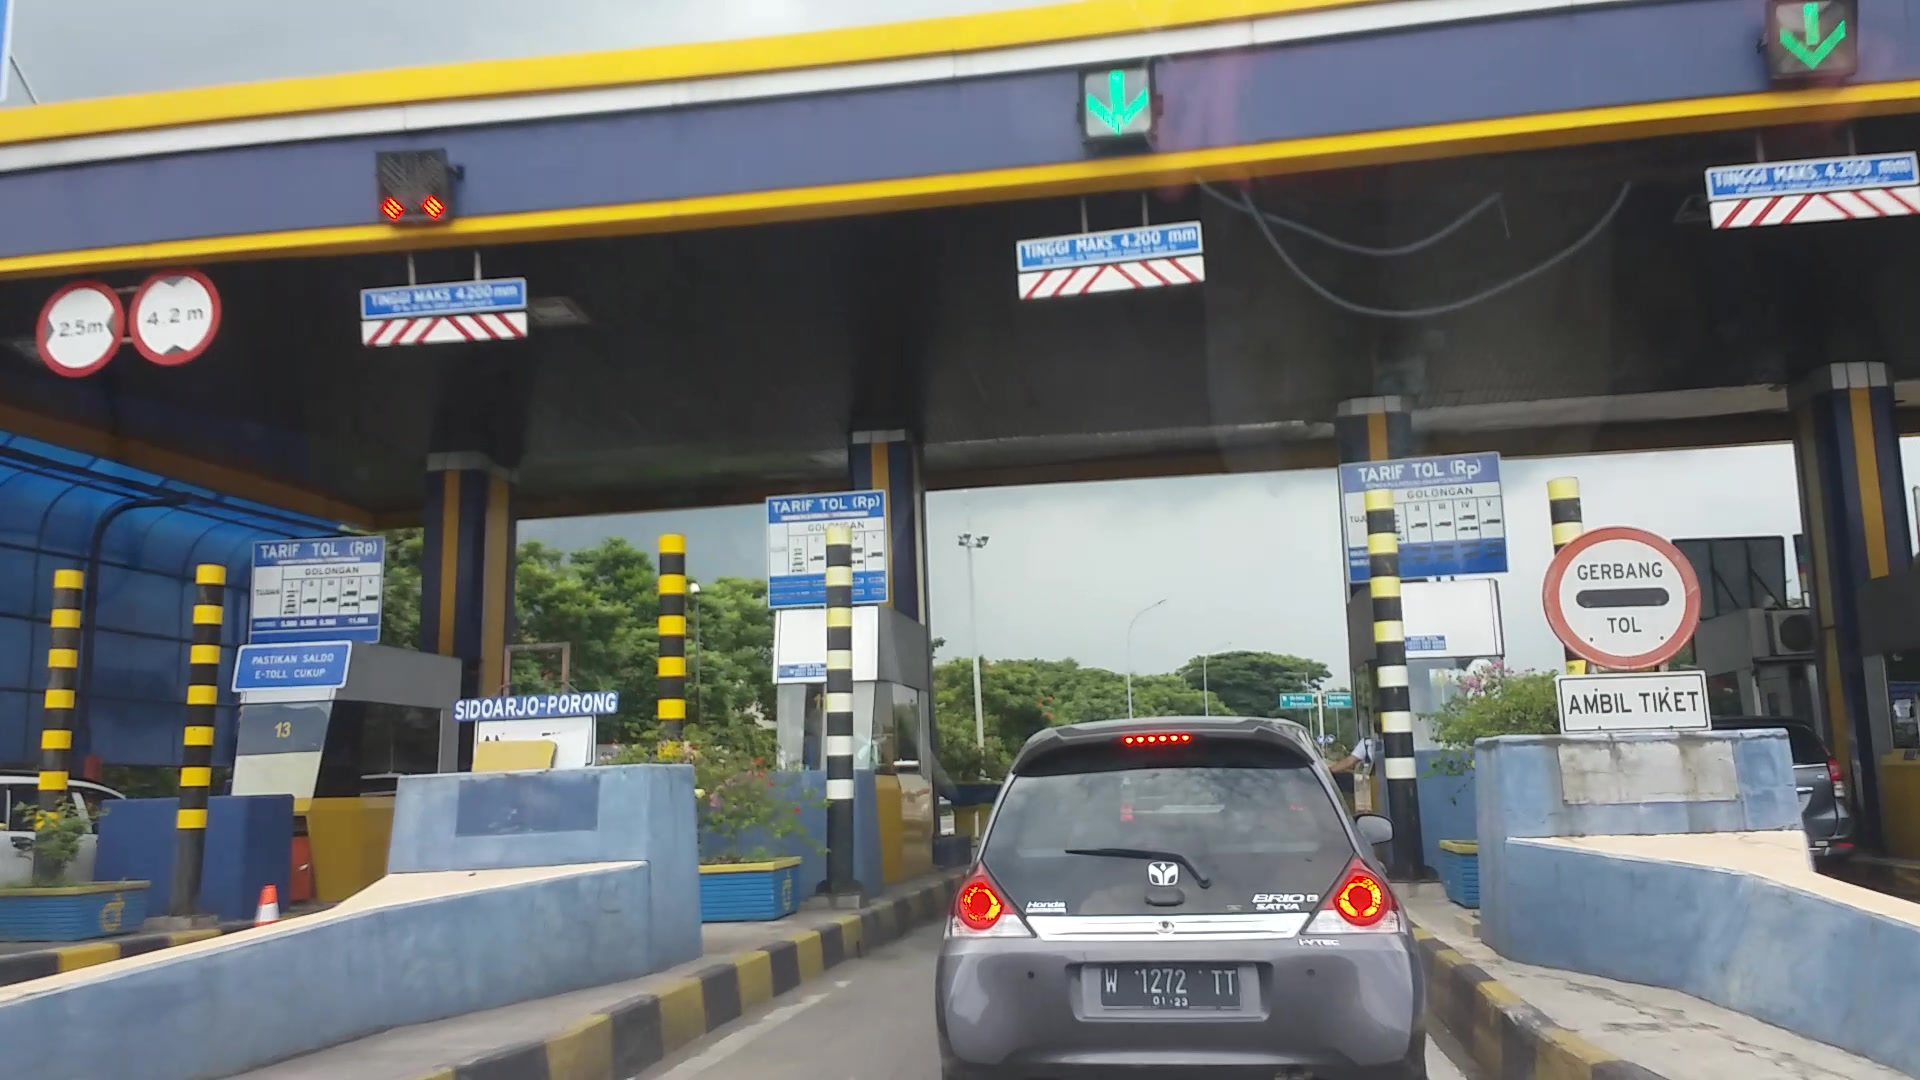plate_positive: (1100, 964, 1240, 1009)
